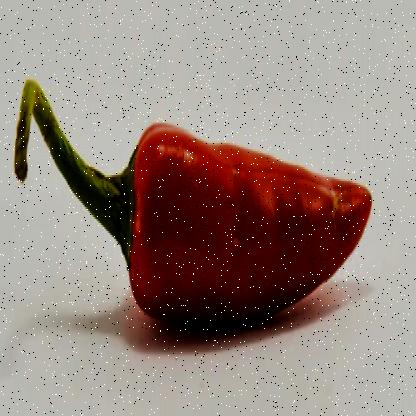chili: (13, 75, 371, 332)
